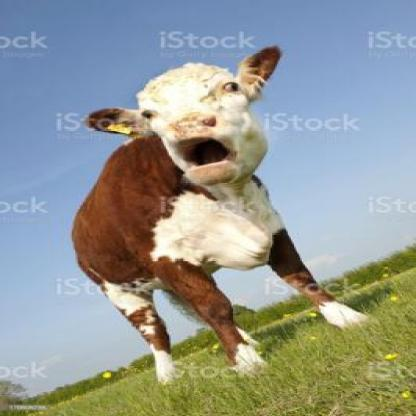lower: (196, 166, 225, 178)
mouth: (162, 113, 247, 182)
upper: (177, 121, 201, 131)
